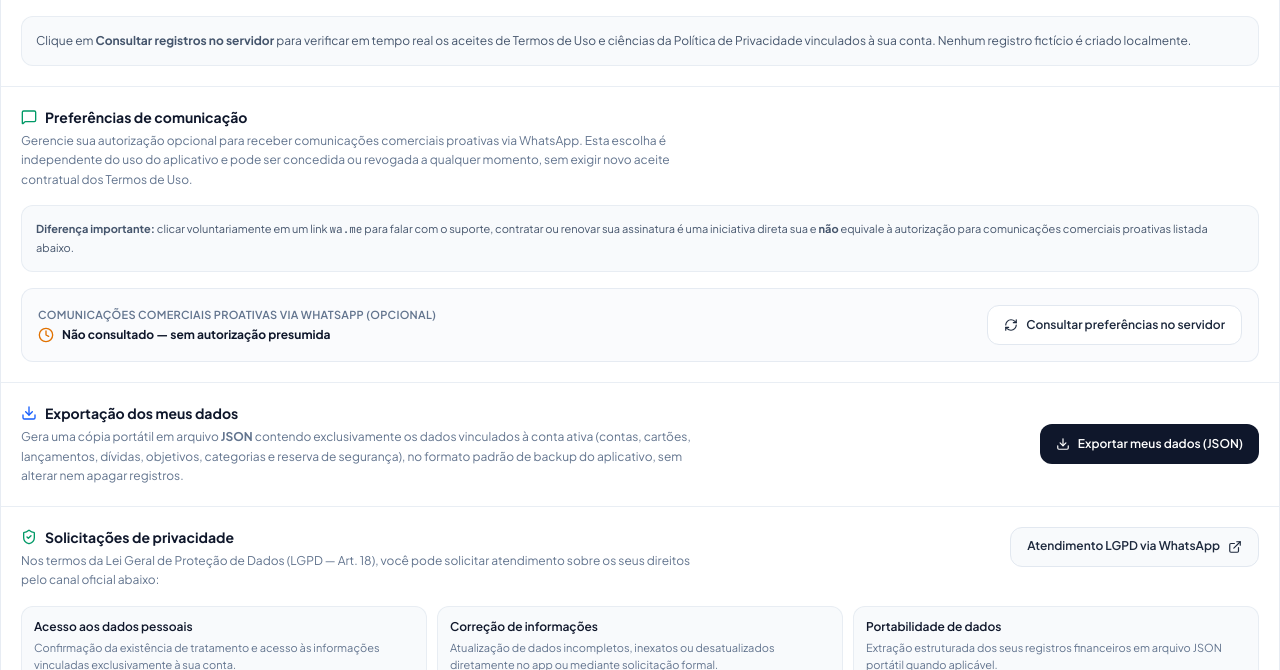
Test case: Fase 2.5 — Central de Privacidade, Direitos do Titular e Transparência › 5. Preferências de comunicação (Fase 2.4.1): não presume consentimento, permite conceder e revogar explicitamente e registra histórico cronológico
The width and height of the screenshot is (1280, 670).
(page scrolled)
Click the button with test id "whatsapp-consent-load-btn": (1115, 325) [987, 305, 1242, 345]
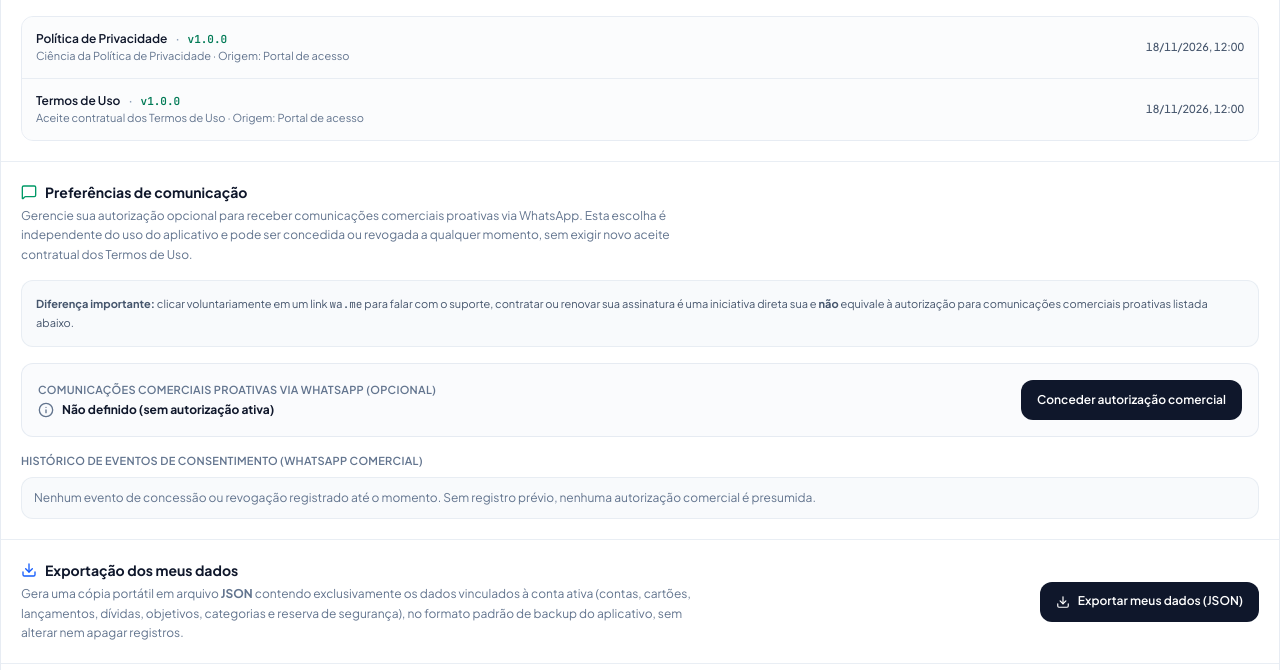
Now the element with test id "whatsapp-consent-status-label" reads "Não definido (sem autorização ativa)", box [62, 402, 274, 417]
Now the text with test id "whatsapp-consent-history-empty" is shown, box [21, 477, 1259, 519]
Now the button with test id "whatsapp-consent-grant-btn" is shown
Click the button with test id "whatsapp-consent-grant-btn": (1132, 400) [1021, 380, 1242, 420]
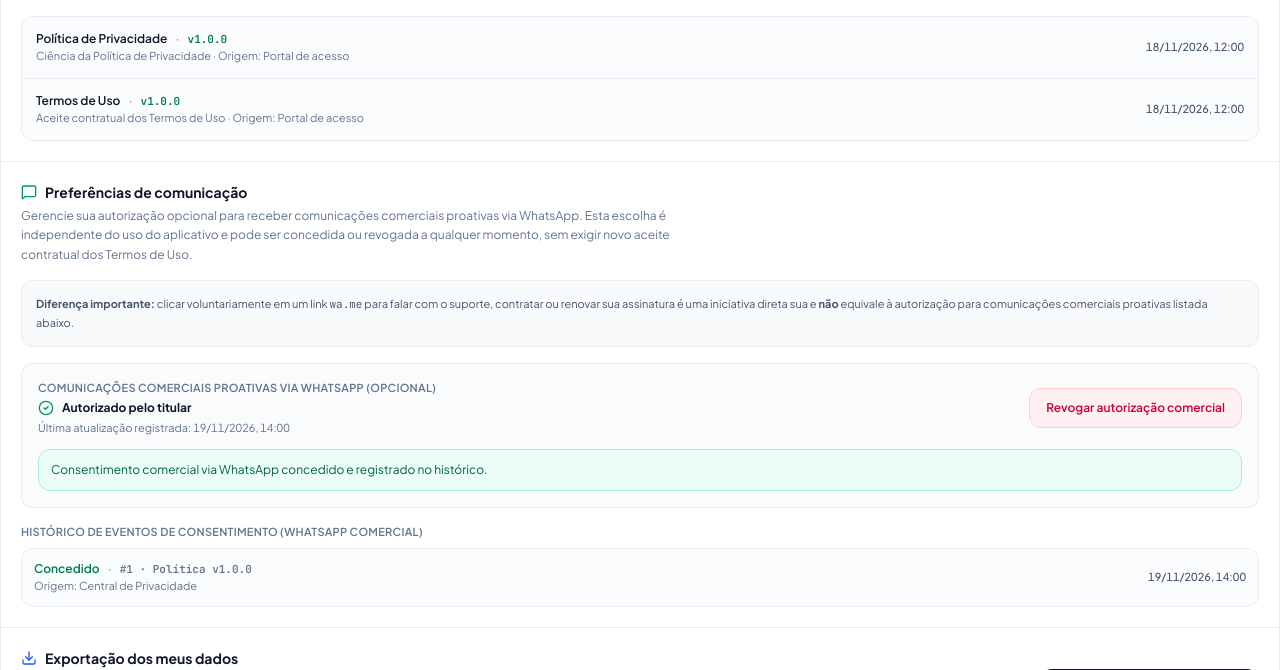
Now the button with test id "whatsapp-consent-grant-btn" is shown
Now the element with test id "whatsapp-consent-status-label" reads "Autorizado pelo titular", box [62, 400, 192, 415]
Click the button with test id "whatsapp-consent-grant-btn": (1136, 408) [1029, 388, 1242, 428]
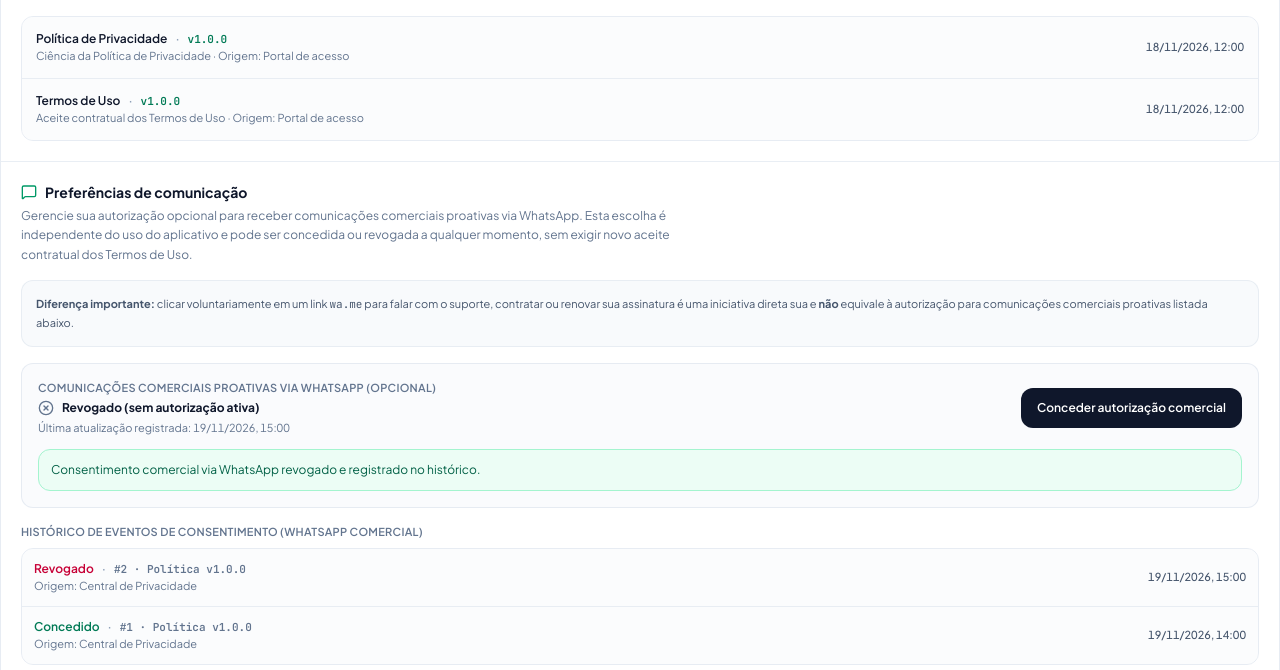
Now the element with test id "whatsapp-consent-history-empty" shows "Concedido", box [34, 619, 100, 634]
Now the element with test id "whatsapp-consent-status-label" reads "Revogado (sem autorização ativa)", box [62, 400, 260, 415]
Now the element with test id "whatsapp-consent-history-empty" shows "Revogado", box [34, 561, 94, 576]
